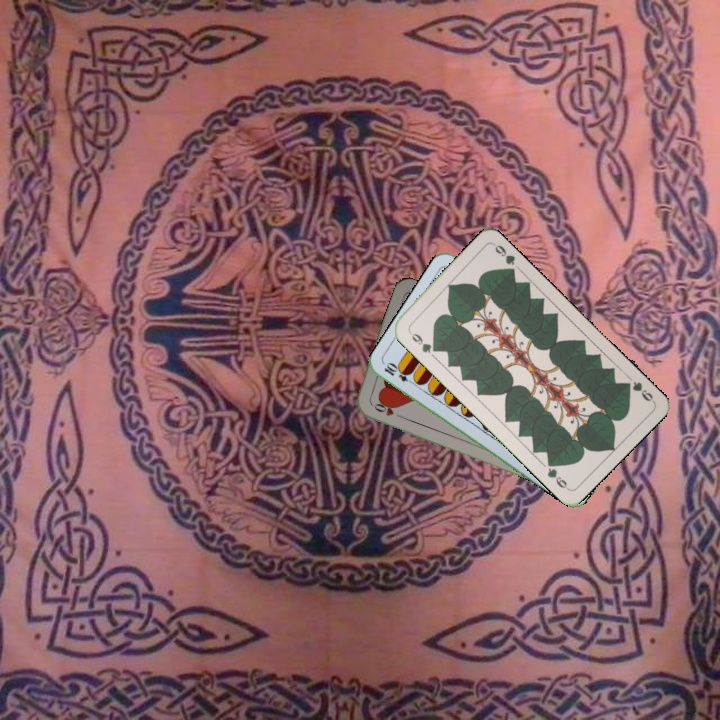E10: (380, 360, 418, 388)
G9: (405, 327, 440, 356), (619, 377, 656, 404)
HO: (367, 399, 406, 421)
